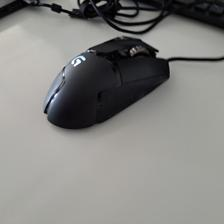mouse: (42, 34, 171, 130)
